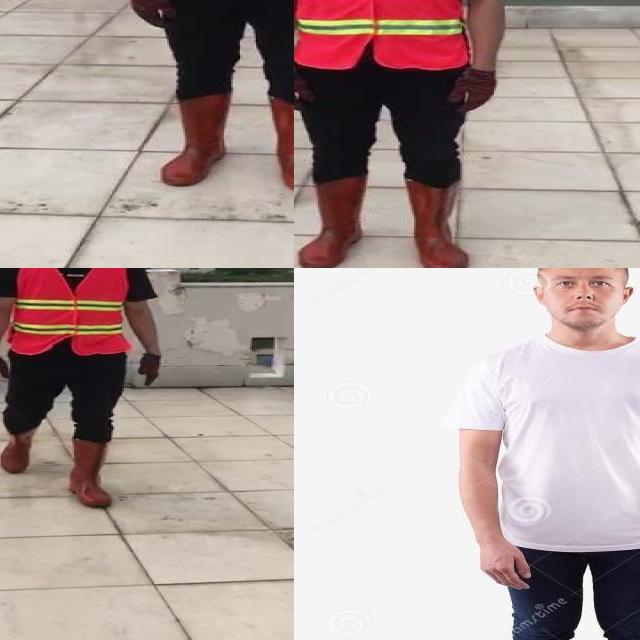No_Ear-Protection: (526, 277, 548, 305), (618, 282, 639, 310)
No_Glasses: (550, 272, 614, 293)
boots: (162, 95, 233, 187), (401, 175, 469, 268), (298, 178, 365, 268), (69, 435, 115, 508), (264, 93, 294, 193), (0, 425, 37, 474)
face_nomask: (546, 287, 619, 323)
hand_glove: (450, 70, 496, 112), (126, 0, 176, 30), (294, 70, 314, 112)
hand_noglove: (457, 518, 540, 595)
head_helmet: (102, 0, 294, 195)
person: (446, 268, 640, 640), (294, 0, 530, 268), (0, 268, 172, 520)
vest: (294, 0, 469, 71), (8, 268, 129, 355)
